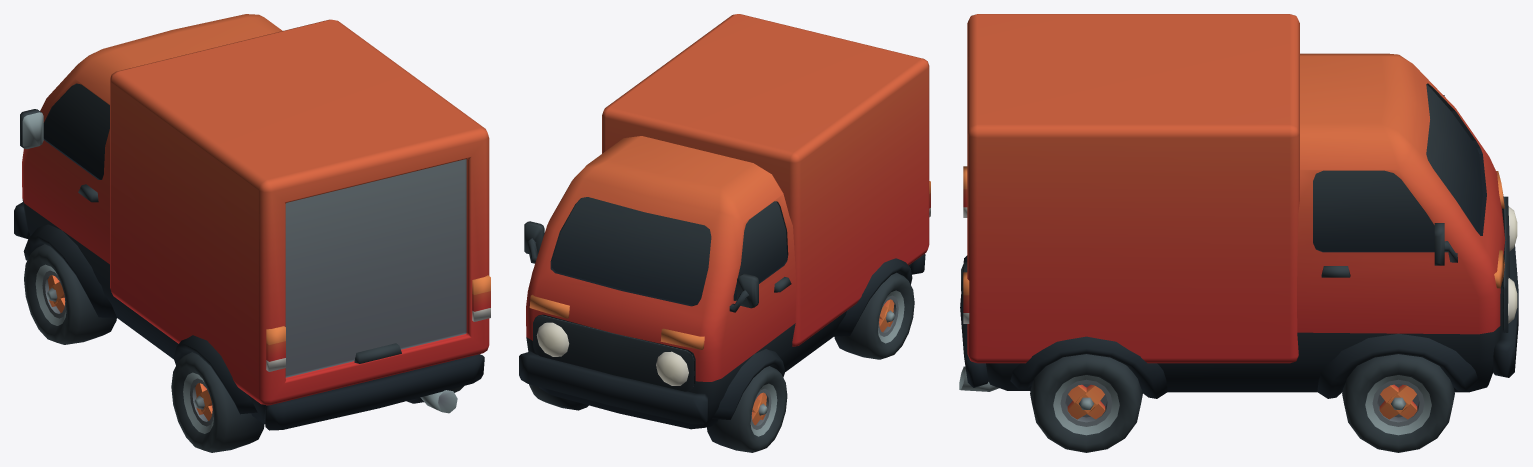
Rendered from truck.fbx.
3 renders of one model, left to right at view 1: azimuth 30°, elevation 25°; view 2: azimuth 150°, elevation 25°; view 3: azimuth 270°, elevation 25°, orthographic. The views are drawn at different scales.
Parts seen in each view (by area): view 1: Cube, Cube.121, Plane.040, Cylinder.090, Cylinder.078, Plane.054, Cylinder.086, Cylinder.088, Cube.130, Cube.134, Cylinder.089, Cube.128; view 2: Cube, Cube.121, Plane.056, Plane.038, Plane.039, Cylinder.078, Cylinder.090, Plane.054, Cylinder.087, Cylinder.086, Cylinder.088, Cube.133 (+3 smaller); view 3: Cube, Cube.121, Plane.054, Cylinder.080, Cylinder.082, Plane.056, Cylinder.086, Cylinder.088, Plane.038, Plane.039, Plane.040, Cube.002 (+4 smaller).
Part boxes in pixels (<box>): Cube: <box>110,19,489,405</box>; Cube.121: <box>22,14,282,423</box>; Plane.040: <box>264,354,484,430</box>; Cylinder.090: <box>171,352,264,452</box>; Cylinder.078: <box>24,244,116,344</box>; Plane.054: <box>43,83,109,179</box>; Cylinder.086: <box>23,224,116,317</box>; Cylinder.088: <box>173,335,257,414</box>; Cube.130: <box>266,275,490,371</box>; Cube.134: <box>20,109,43,148</box>; Cylinder.089: <box>420,390,457,413</box>; Cube.128: <box>354,343,401,363</box>; Cube: <box>602,14,929,346</box>; Cube.121: <box>526,136,912,429</box>; Plane.056: <box>552,197,711,305</box>; Plane.038: <box>519,351,708,424</box>; Plane.039: <box>533,314,695,391</box>; Cylinder.078: <box>707,366,787,452</box>; Cylinder.090: <box>834,272,914,359</box>; Plane.054: <box>733,201,786,300</box>; Cylinder.087: <box>536,322,688,385</box>; Cylinder.086: <box>712,349,785,419</box>; Cylinder.088: <box>834,258,912,336</box>; Cube.133: <box>529,294,704,349</box>; Cube: <box>967,14,1299,363</box>; Cube.121: <box>986,53,1505,392</box>; Plane.054: <box>1313,170,1434,251</box>; Cylinder.080: <box>1342,354,1454,452</box>; Cylinder.082: <box>1030,354,1142,452</box>; Plane.056: <box>1426,84,1482,233</box>; Cylinder.086: <box>1317,333,1478,398</box>; Cylinder.088: <box>1010,336,1167,398</box>; Plane.038: <box>1493,245,1518,377</box>; Plane.039: <box>1500,196,1509,332</box>; Plane.040: <box>960,255,988,387</box>; Cube.002: <box>1426,83,1486,235</box>.
Size of the model in its own units: 0.8016 by 1.36 by 0.8698.
